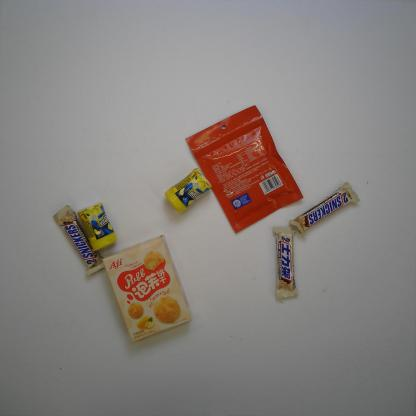Chocolate: (51, 205, 107, 278), (288, 182, 360, 236), (272, 226, 298, 300)
Dessert: (103, 235, 193, 342)
Dried Fruit: (185, 104, 304, 234)
Gum: (164, 167, 212, 214), (77, 202, 118, 252)
